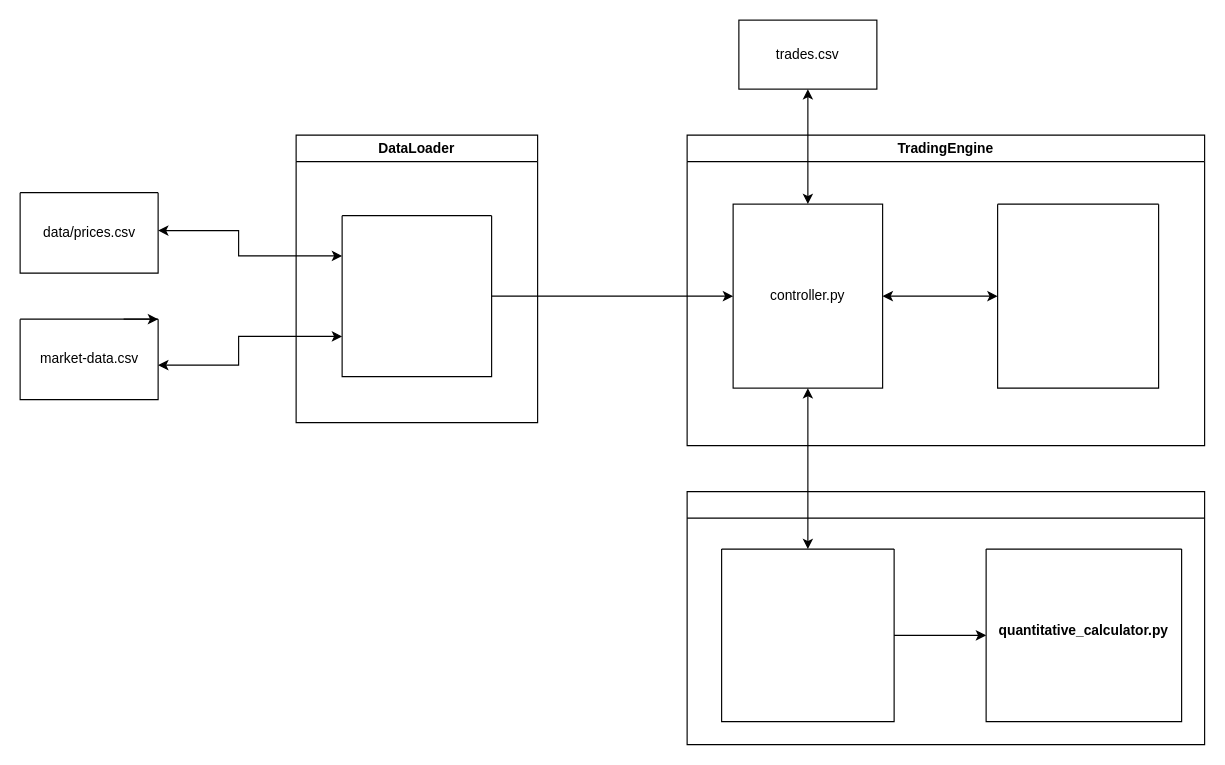
The diagram is 1225 pixels wide and 765 high, and some of its shapes have lost their labels. Each missing label, with the box of its shape:
generate_prices.py: (341, 214, 492, 377)
PortfolioManager: (686, 490, 1205, 745)
position_calculator.py: (720, 548, 894, 722)
trading_engine.py: (996, 203, 1159, 388)
